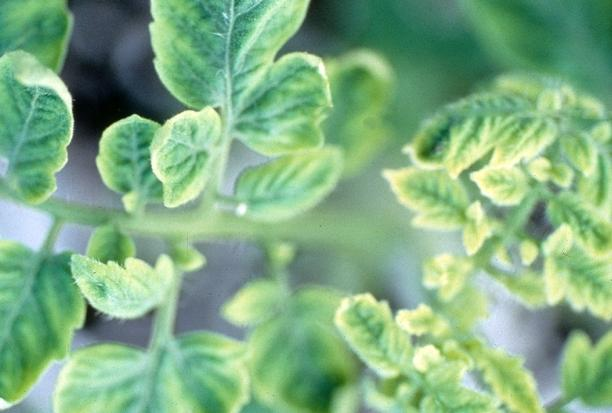Tomato leaf yellow virus: (145, 0, 336, 105), (53, 330, 250, 413), (0, 242, 90, 413), (224, 34, 343, 159), (0, 54, 78, 205), (223, 147, 372, 224), (332, 281, 430, 393), (84, 113, 172, 225), (146, 109, 235, 210), (68, 240, 179, 319), (381, 161, 485, 236)
